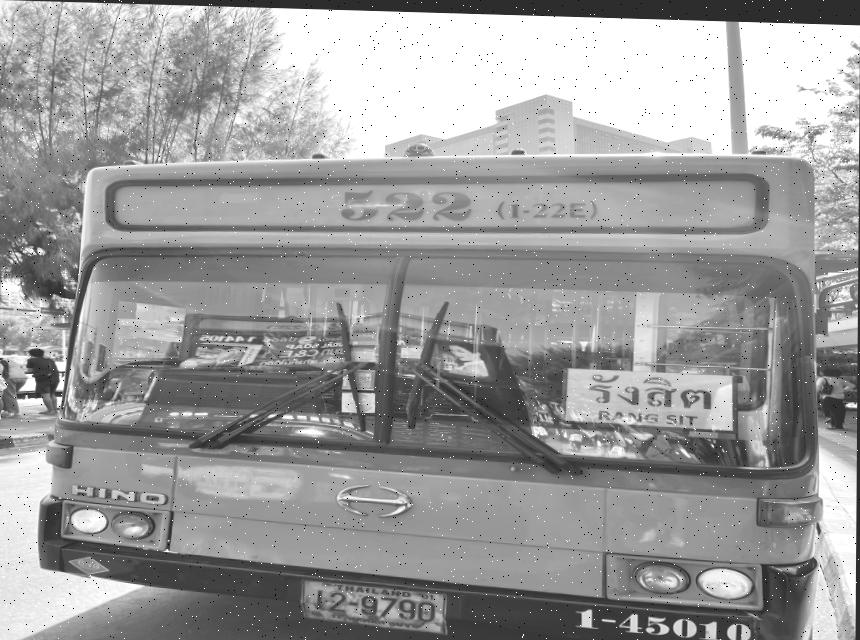BMTA-bus: (36, 138, 831, 640)
Bus Line Number: (325, 179, 622, 233)
Bus Side Number: (561, 599, 762, 640)
Destination Sign: (569, 362, 736, 425)
